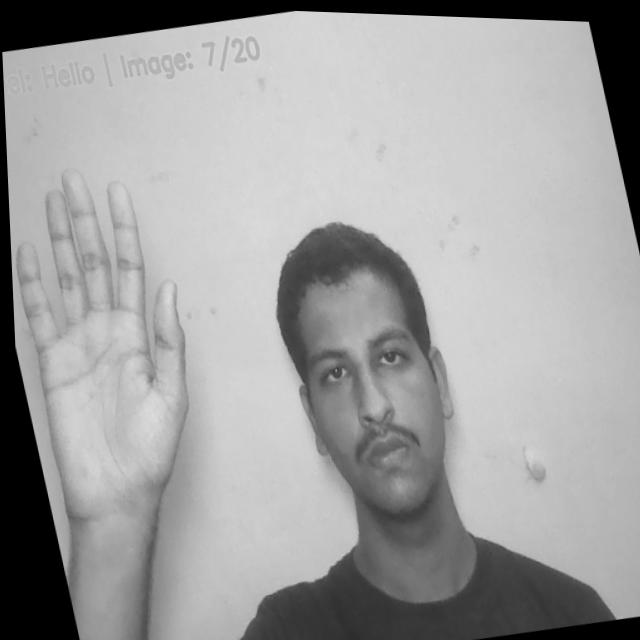Hello: (5, 141, 223, 540)
